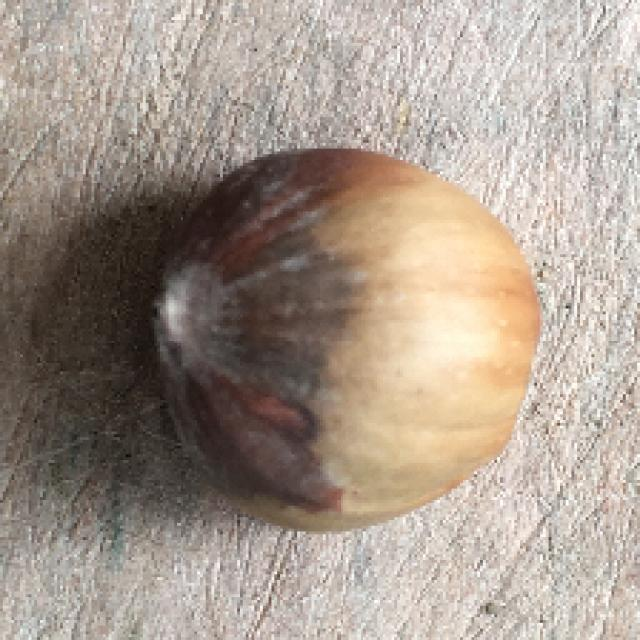DamagedHazelnut: (150, 143, 539, 538)
